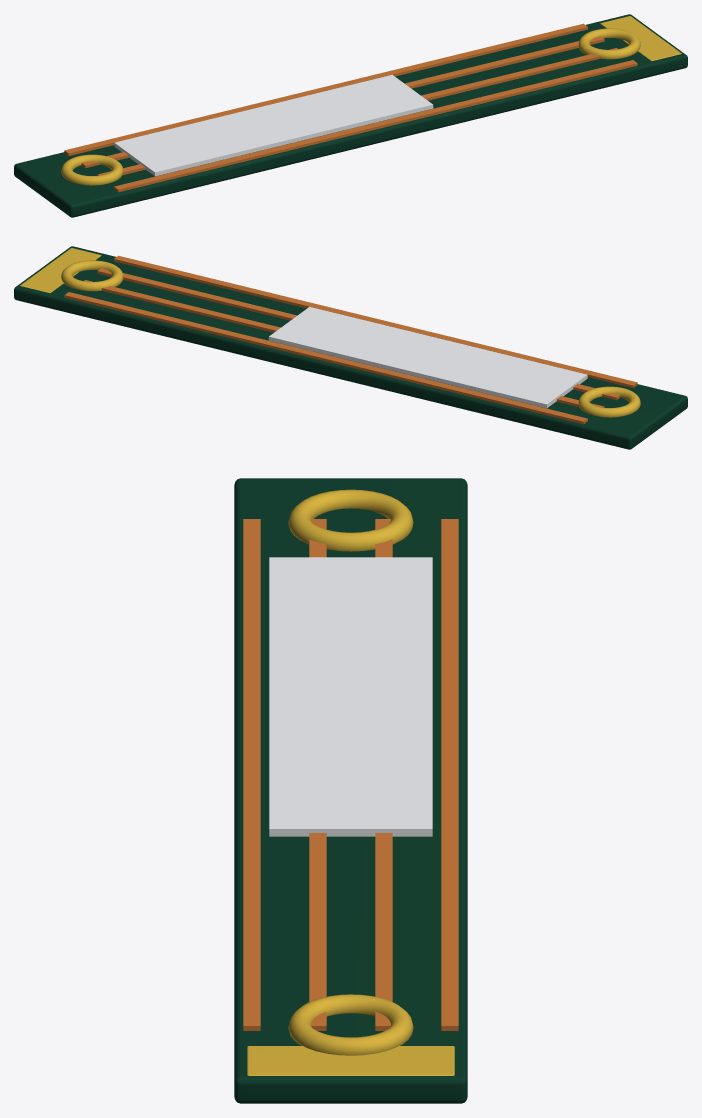
3 views of the same model, one above another, from view 1: azimuth 30°, elevation 25°; view 2: azimuth 150°, elevation 25°; view 3: azimuth 270°, elevation 25° (orthographic). The views are drawn at different scales.
Visible parts, largest first — view 1: part_042; view 2: part_042; view 3: part_042.
Part boxes in pixels (box(x1,y1,x2,y2)): part_042: box(14, 14, 687, 217); part_042: box(14, 246, 687, 449); part_042: box(234, 478, 467, 1103).
Size of the model in its own units: 0.98 by 0.0305 by 0.16.
